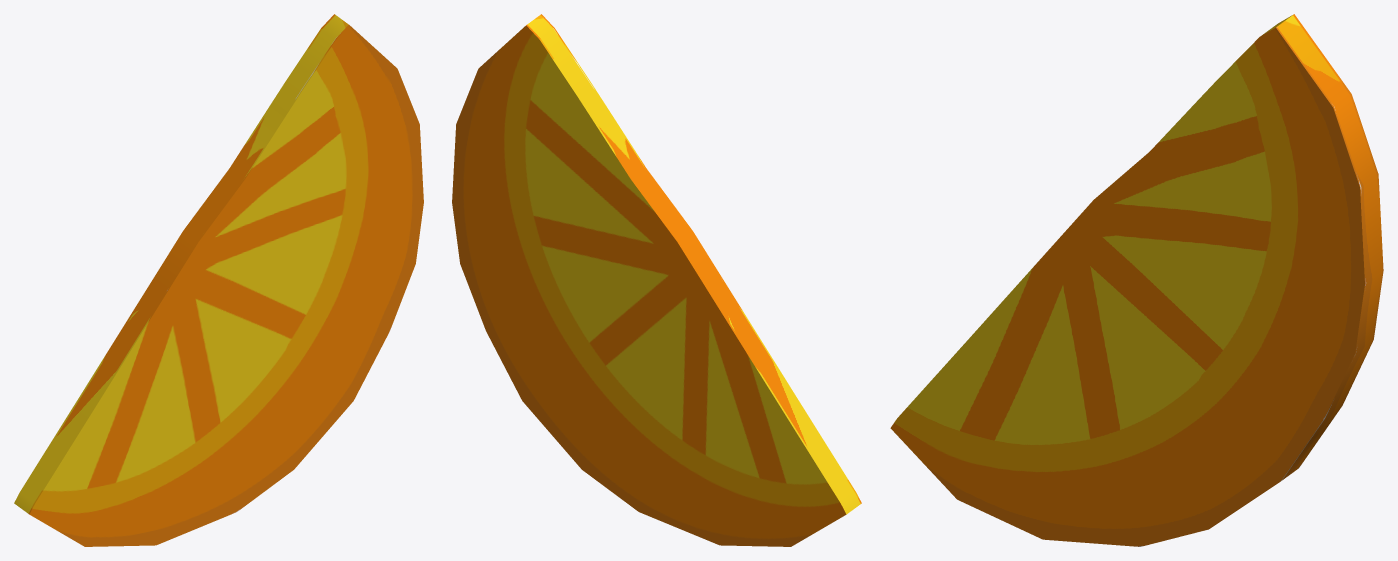
File: Orange.fbx
3 renders of one model, left to right at view 1: azimuth 30°, elevation 25°; view 2: azimuth 150°, elevation 25°; view 3: azimuth 330°, elevation 25°, orthographic. The views are drawn at different scales.
Visible parts, largest first — view 1: polySurface1; view 2: polySurface1; view 3: polySurface1.
Boxes of the visible parts, x1,y1,x2,y2 form: polySurface1: [14, 14, 423, 546]; polySurface1: [452, 14, 861, 546]; polySurface1: [890, 14, 1383, 546].
Bounding box in the file's own units: 22.09 × 25.3 × 1.5.
Materials: 1 (1 with a texture image).
